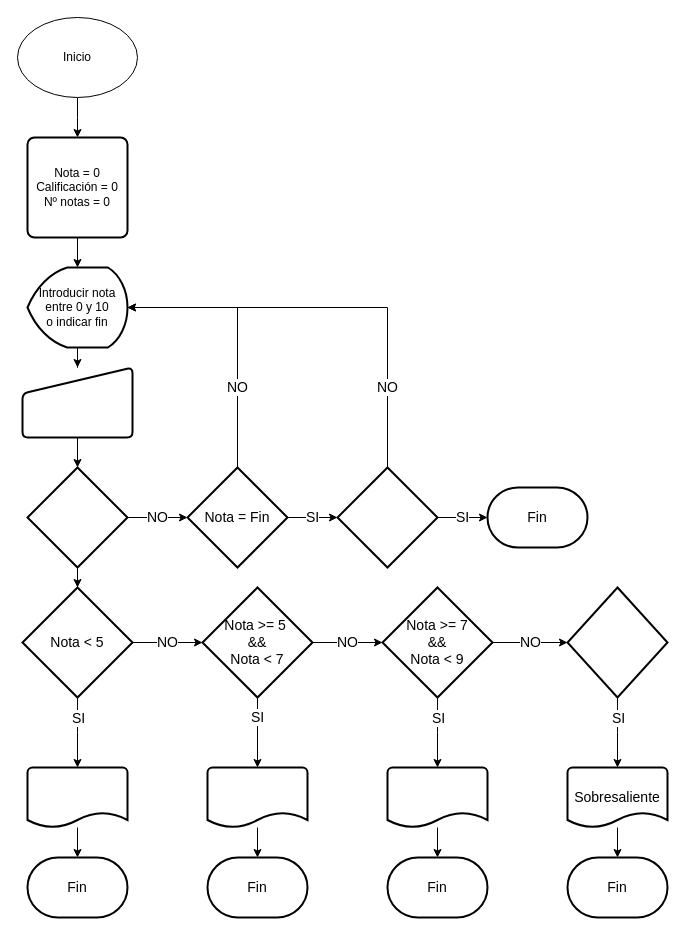
The diagram is 686 pixels wide and 936 high, and some of its shapes have lost their labels. The shapes that lost their labels are listed below. From the top down, each one's box as (x1, y1, x2, y2) in pixels, then its label:
(21, 366, 133, 438): Leer variable nota
(26, 466, 128, 568): Nota >= 0 && Nota <= 10
(336, 466, 438, 568): Nº notas >= 0
(566, 586, 668, 698): Nota >= 9
(26, 766, 128, 828): Suspenso
(206, 766, 308, 828): Aprobado
(386, 766, 488, 828): Notable
